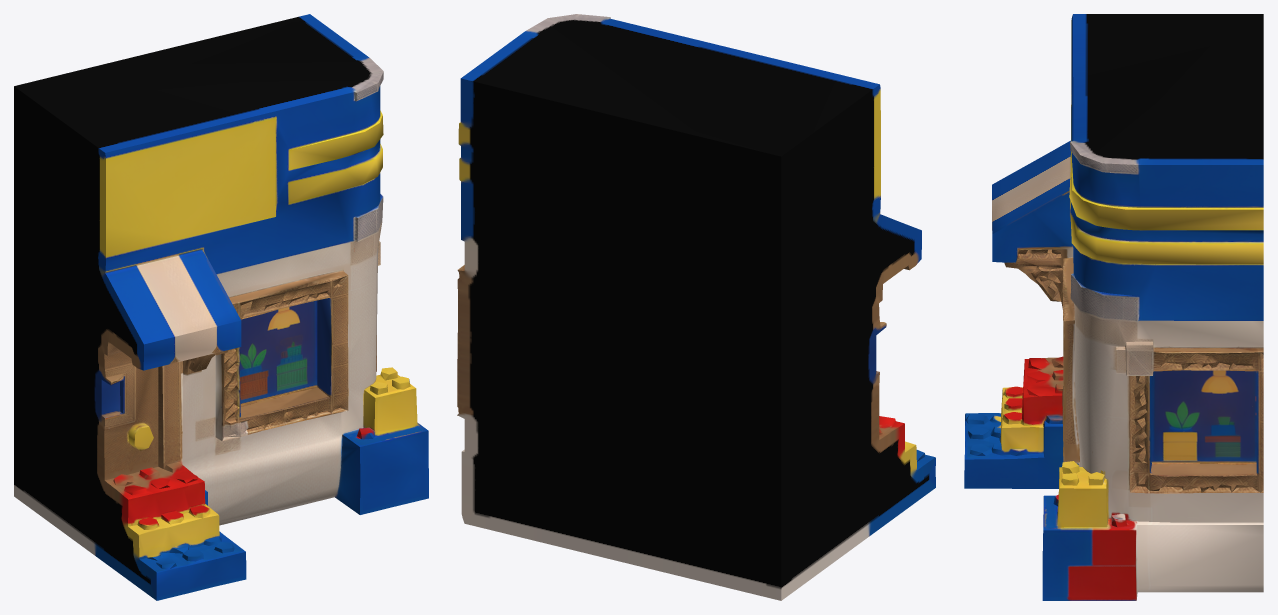
Rendered from 2-ground-floor-front-right.fbx.
3 renders of one model, left to right at view 1: azimuth 30°, elevation 25°; view 2: azimuth 150°, elevation 25°; view 3: azimuth 270°, elevation 25°, orthographic. The views are drawn at different scales.
Parts seen in each view (by area): view 1: ground-floor-front-right; view 2: ground-floor-front-right; view 3: ground-floor-front-right.
Boxes of the visible parts, x1,y1,x2,y2 form: ground-floor-front-right: [14, 14, 428, 600]; ground-floor-front-right: [457, 14, 935, 600]; ground-floor-front-right: [964, 14, 1263, 600].
Bounding box in the file's own units: 3942 × 4997 × 3159.
Materials: 1 (1 with a texture image).
